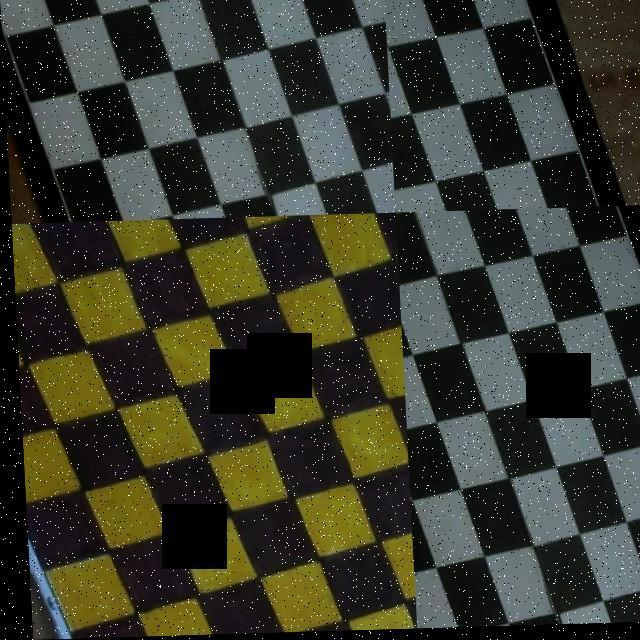chess-table-corners: (578, 210, 588, 217), (393, 215, 398, 221), (0, 0, 4, 4), (386, 24, 388, 30), (10, 244, 11, 252)
